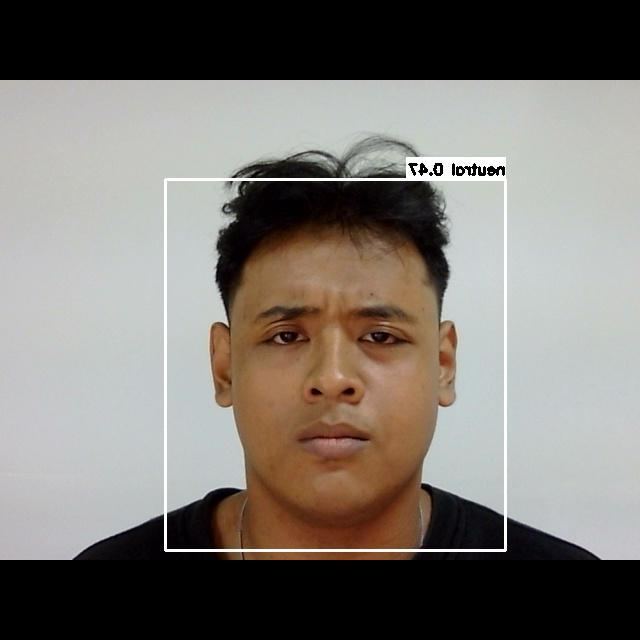Angry: (221, 269, 445, 475)
